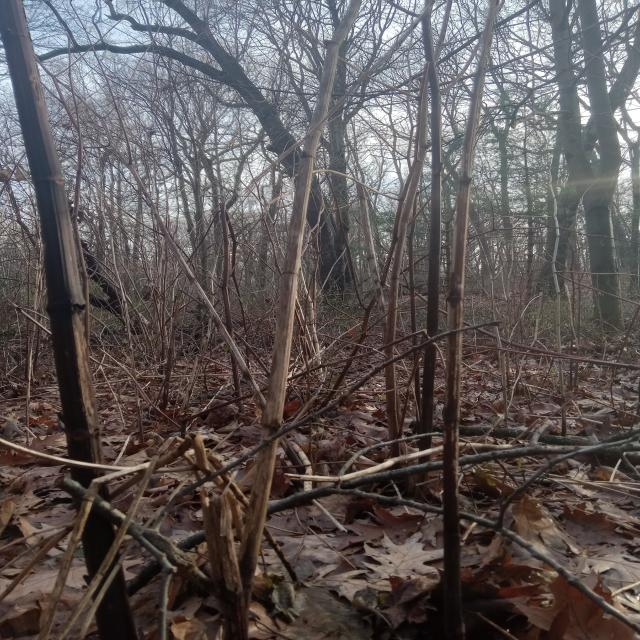bushes: (1, 1, 639, 638)
knotweed-stems: (0, 1, 138, 638), (435, 1, 506, 637)
